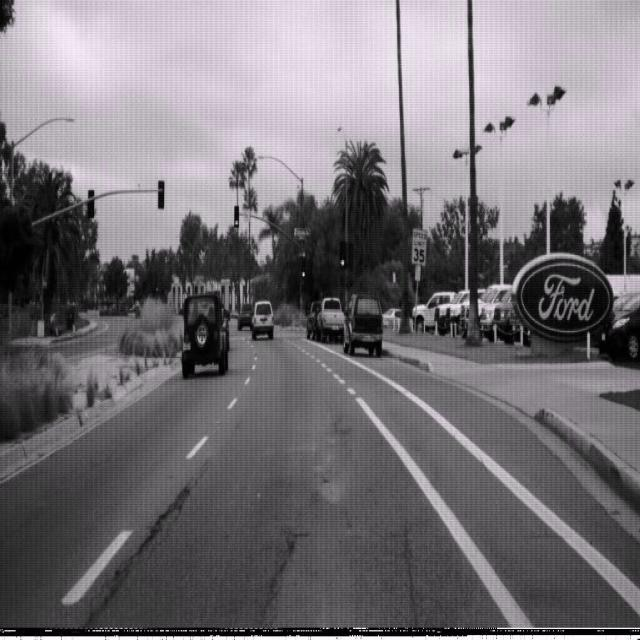speedLimit35: (410, 226, 428, 268)
